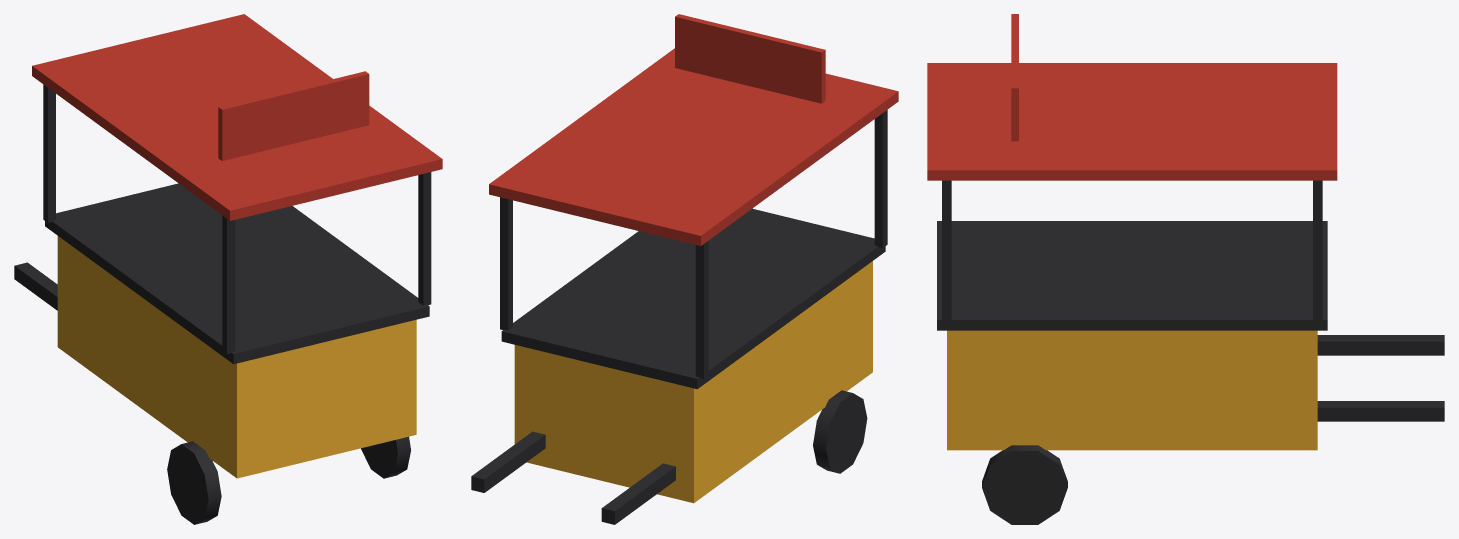
File: prop_foodcart.glb
3 views of the same model, side by side, from view 1: azimuth 30°, elevation 25°; view 2: azimuth 150°, elevation 25°; view 3: azimuth 270°, elevation 25° (orthographic). The views are drawn at different scales.
Bounding box in the file's own units: 1.3 × 2.39 × 2.65.
